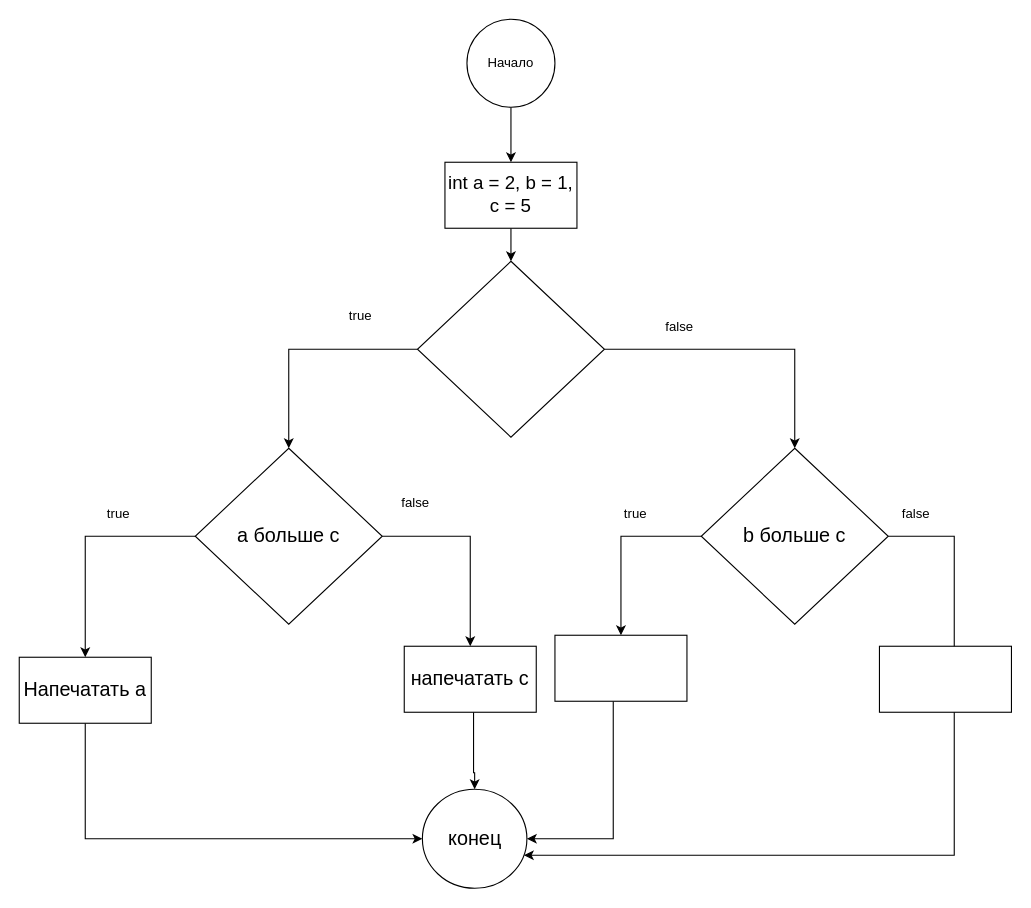
This 1031x908 diagram has some shape labels left out. Here are the shapes that lost their labels. From the top down, the centre of each, then its label:
(510,348): a больше b
(620,667): Напечатать b
(944,678): Напечать с
